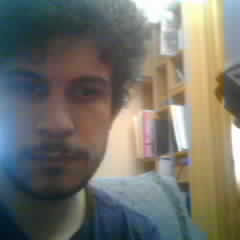without_mask: (1, 34, 114, 203)
